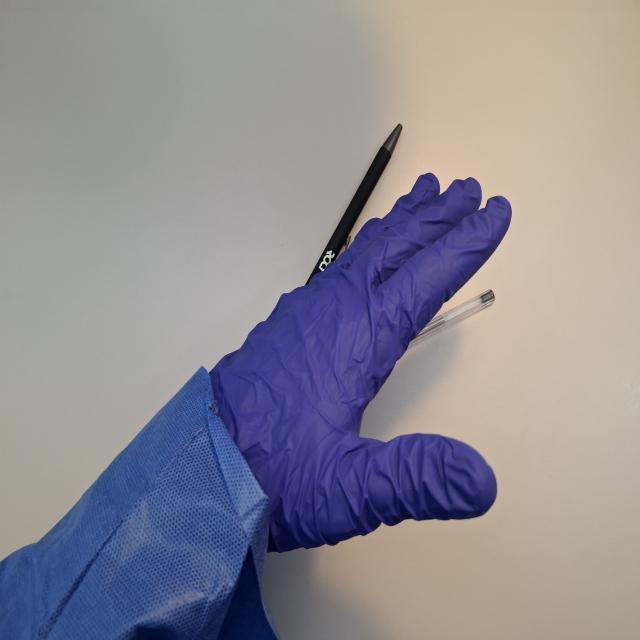glove_on: (200, 170, 516, 558)
